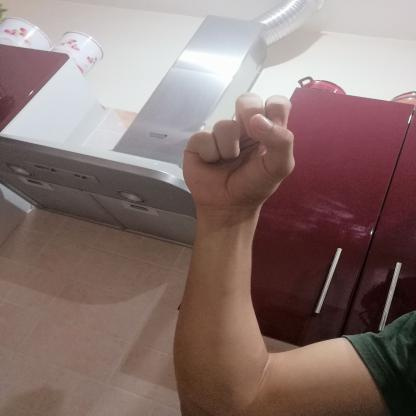QAAF: (169, 81, 308, 220)
